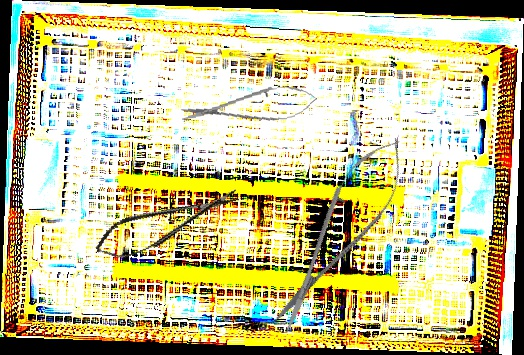Micro Scissor: (256, 125, 422, 343), (90, 181, 245, 266), (179, 80, 319, 133)
